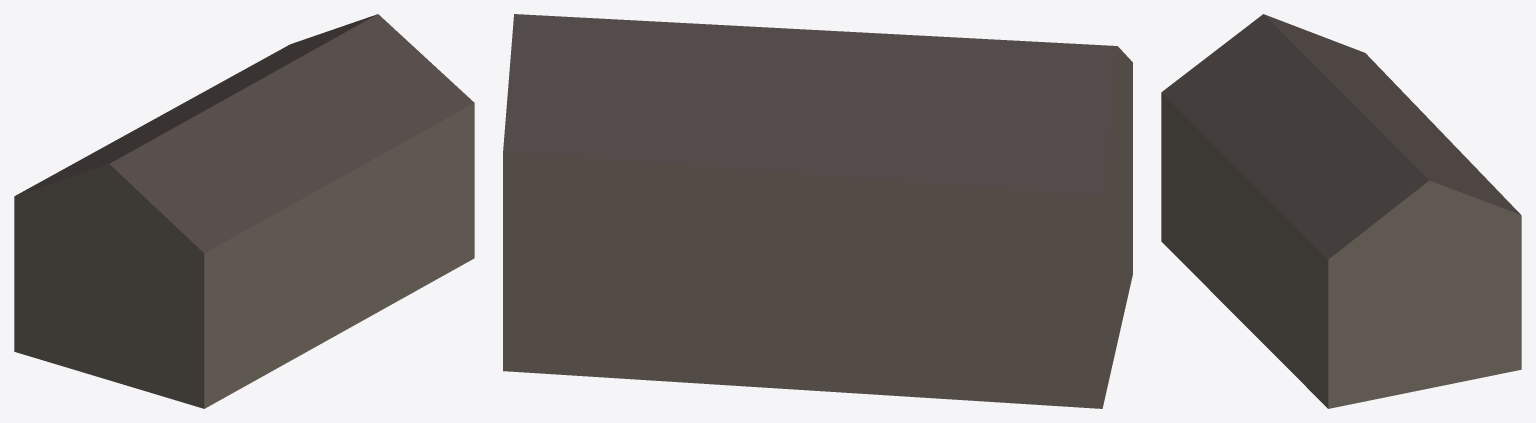
3 renders of one model, left to right at view 1: azimuth 30°, elevation 25°; view 2: azimuth 150°, elevation 25°; view 3: azimuth 270°, elevation 25°, orthographic. The views are drawn at different scales.
Parts seen in each view (by area): view 1: HP-w505659406; view 2: HP-w505659406; view 3: HP-w505659406.
Part boxes in pixels (x1=…): HP-w505659406: x1=14, y1=14, x2=474, y2=408; HP-w505659406: x1=503, y1=14, x2=1132, y2=408; HP-w505659406: x1=1161, y1=14, x2=1521, y2=408.
Size of the model in its own units: 17.82 by 8.36 by 13.12.
